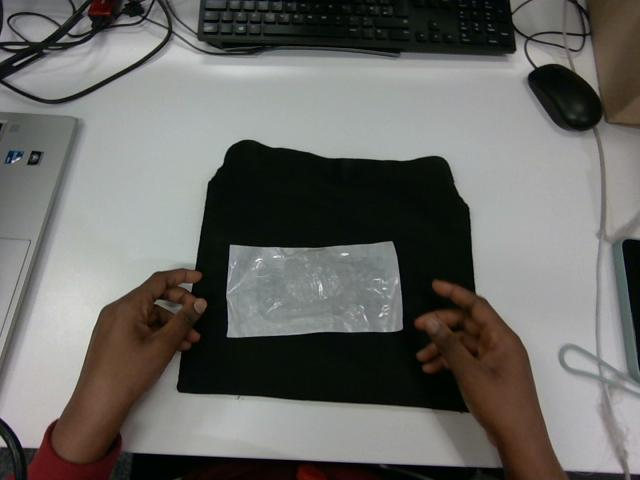gallipot: (227, 242, 402, 337)
